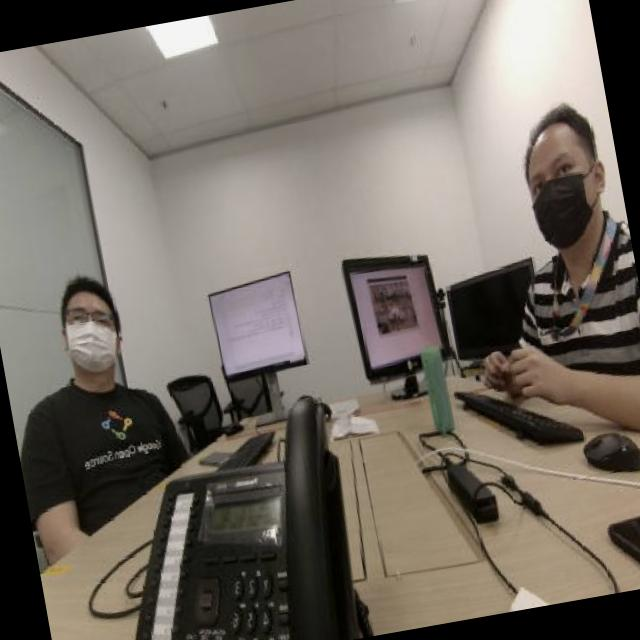Person: (484, 70, 640, 388), (18, 214, 189, 487)
